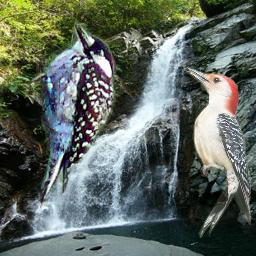Woodpecker: (11, 15, 128, 217), (182, 66, 251, 238)
